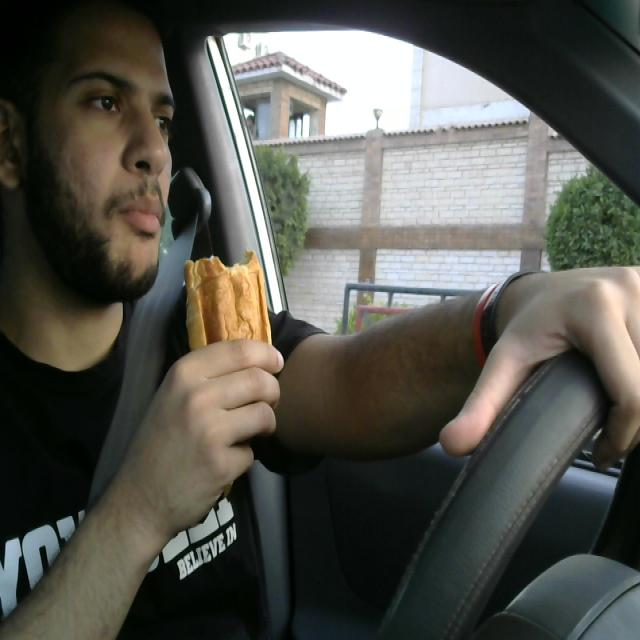eating: (182, 254, 269, 463)
